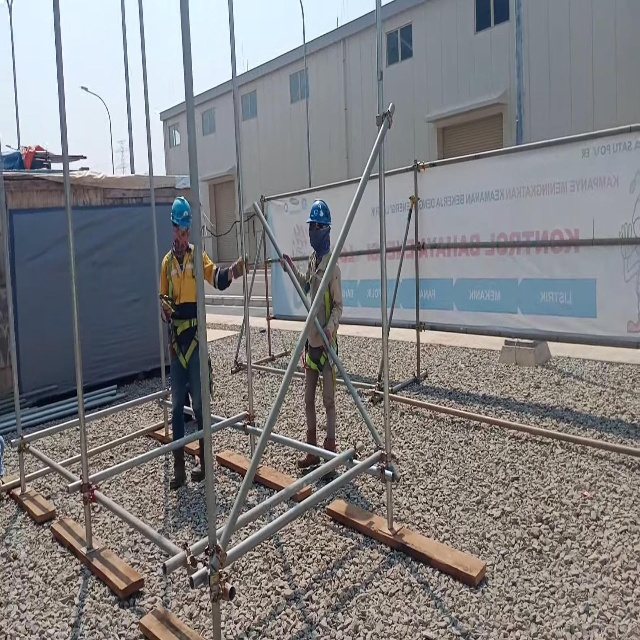Arnes_seguridad: (164, 240, 201, 371), (305, 257, 340, 383)
